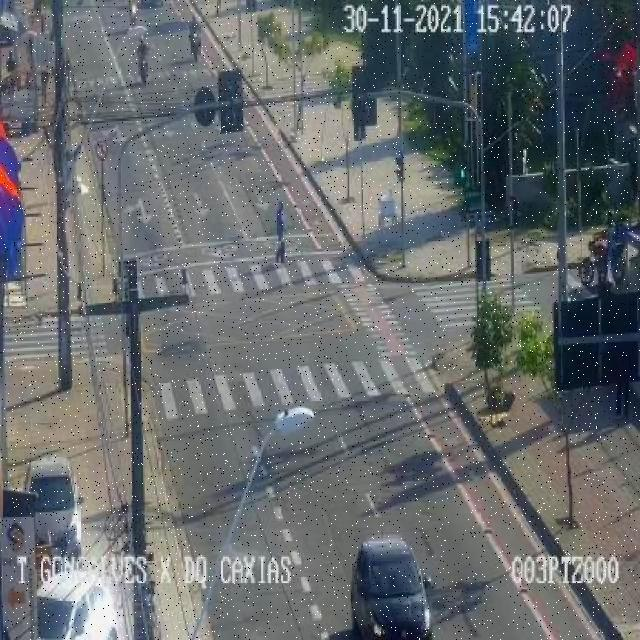Car: (349, 537, 432, 640), (37, 570, 129, 638), (24, 455, 83, 561)
Cycle: (577, 234, 631, 286), (188, 27, 204, 67), (136, 52, 151, 87)
